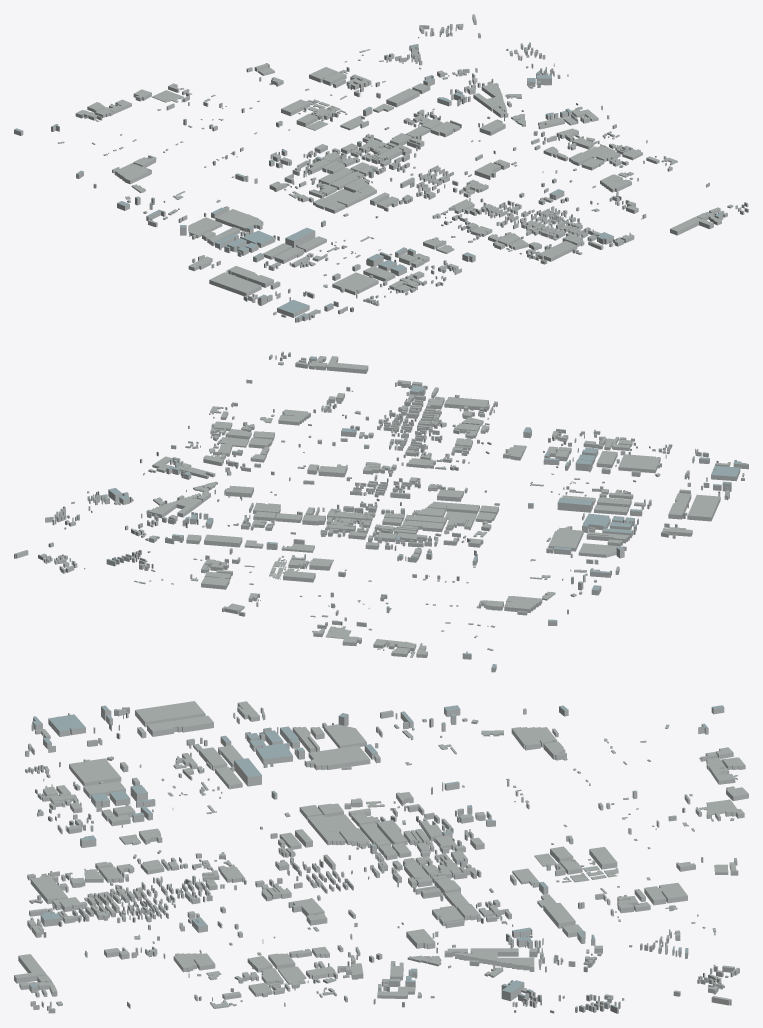
File: far.glb
3 views of the same model, one above another, from view 1: azimuth 30°, elevation 25°; view 2: azimuth 150°, elevation 25°; view 3: azimuth 270°, elevation 25° (orthographic). The views are drawn at different scales.
Bounding box in the file's own units: 2139 × 34.92 × 2156.
